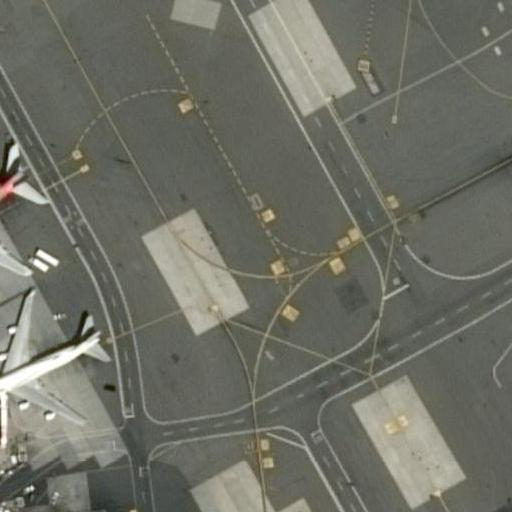Aircraft: (0, 278, 117, 432), (0, 106, 55, 280)
